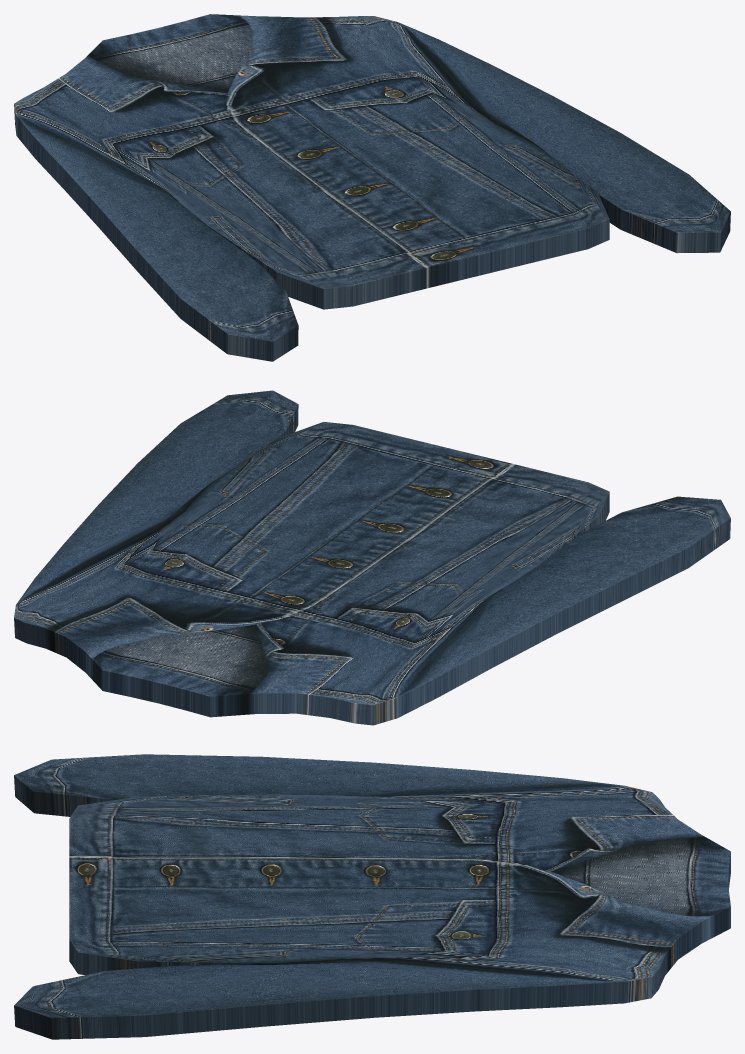
The model's file is 服一号.fbx.
3 views of the same model, one above another, from view 1: azimuth 30°, elevation 25°; view 2: azimuth 150°, elevation 25°; view 3: azimuth 270°, elevation 25° (orthographic). The views are drawn at different scales.
Parts seen in each view (by area): view 1: cloth; view 2: cloth; view 3: cloth.
Part boxes in pixels (box(x1,y1,x2,y2)): cloth: box(14, 14, 730, 361); cloth: box(14, 390, 730, 725); cloth: box(14, 754, 730, 1039).
Bounding box in the file's own units: 32.66 × 1.95 × 37.87.
